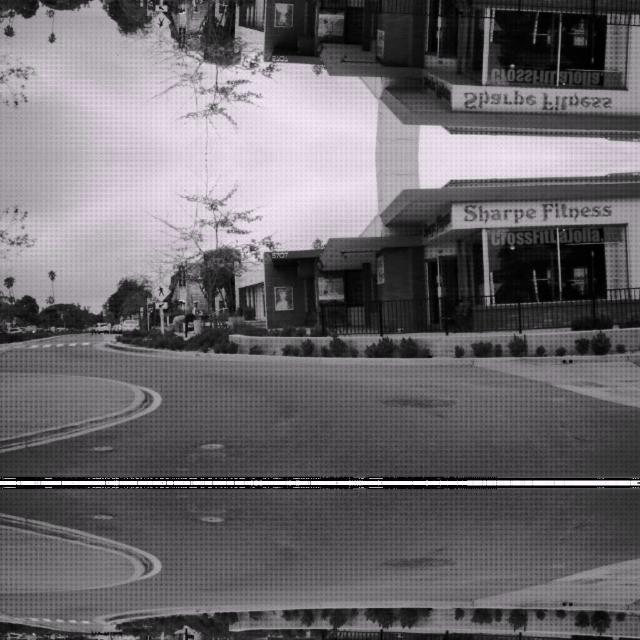pedestrianCrossing: (150, 280, 170, 300), (150, 12, 170, 32)
